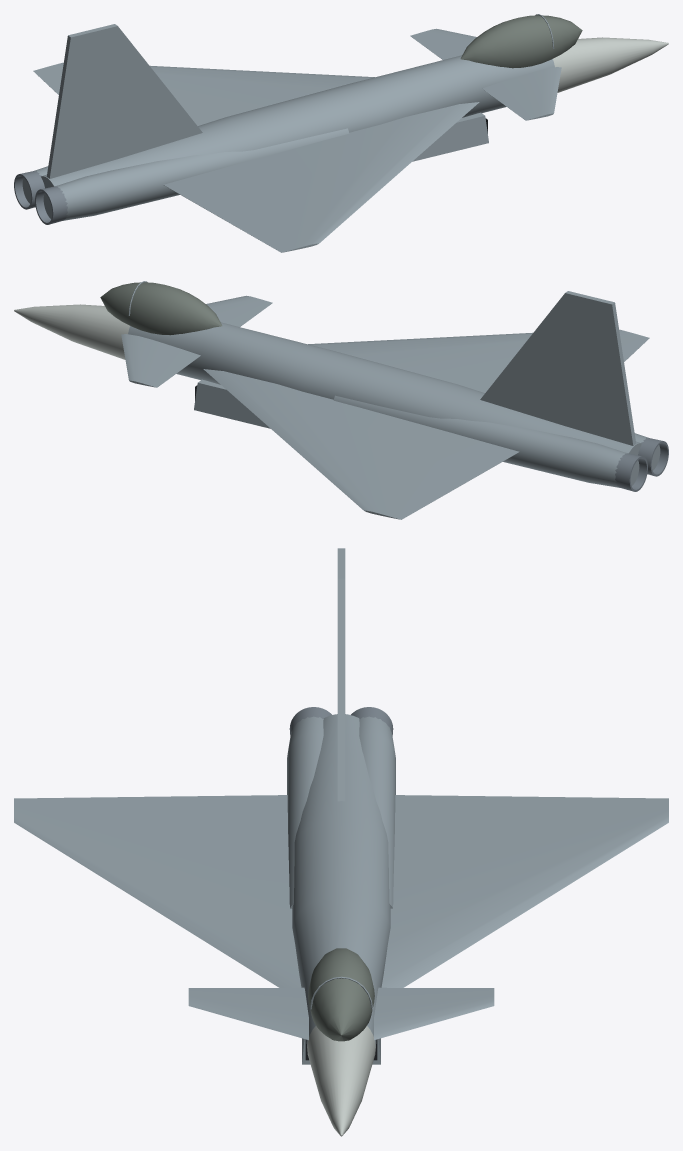
The model's file is raf_fighter_typhoon.glb.
3 views of the same model, one above another, from view 1: azimuth 30°, elevation 25°; view 2: azimuth 150°, elevation 25°; view 3: azimuth 270°, elevation 25° (orthographic). The views are drawn at different scales.
Parts seen in each view (by area): view 1: airframe, canopy_gold, array_face, titanium; view 2: airframe, canopy_gold, array_face, titanium; view 3: airframe, canopy_gold, array_face.
Part boxes in pixels (x1,y1,x2,y2): airframe: (22,14,561,252); canopy_gold: (460,15,582,68); array_face: (553,37,668,92); titanium: (14,171,67,224); airframe: (121,281,660,519); canopy_gold: (100,282,222,335); array_face: (14,304,129,359); titanium: (615,438,668,491); airframe: (14,548,668,1064); canopy_gold: (308,948,374,1041); array_face: (307,1026,375,1136).
Size of the model in its own units: 10 by 2.93 by 6.78.
